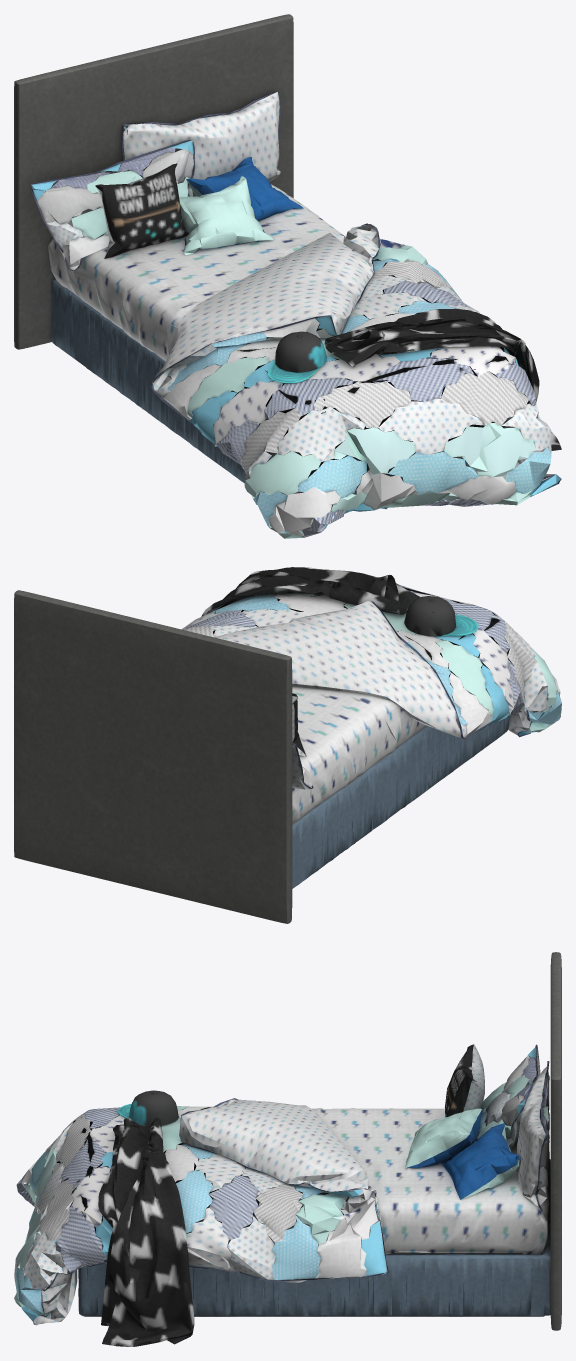
The model's file is raw_model.obj.
The picture shows the model from 3 angles, top to bottom: view 1: azimuth 30°, elevation 25°; view 2: azimuth 150°, elevation 25°; view 3: azimuth 270°, elevation 25°; orthographic projection. The views are drawn at different scales.
Parts seen in each view (by area): view 1: solid_007, solid_022, solid_002, solid_018, solid_001, solid_025, solid_015, solid_026, solid_024, solid_014, solid_023, solid_008 (+9 smaller); view 2: solid_007, solid_022, solid_001, solid_002, solid_008, solid_015, solid_018, solid_023, solid_024, solid_011, solid_027, solid_026 (+4 smaller); view 3: solid_001, solid_002, solid_008, solid_022, solid_023, solid_024, solid_025, solid_007, solid_018, solid_026, solid_005, solid_015 (+13 smaller).
Boxes of the visible parts, bbox=[...] form: solid_007: bbox=[14, 14, 293, 349]; solid_022: bbox=[152, 224, 561, 524]; solid_002: bbox=[48, 184, 345, 361]; solid_018: bbox=[71, 171, 537, 538]; solid_001: bbox=[51, 278, 352, 511]; solid_025: bbox=[169, 275, 551, 495]; solid_015: bbox=[62, 235, 517, 535]; solid_026: bbox=[217, 260, 528, 474]; solid_024: bbox=[167, 259, 551, 527]; solid_014: bbox=[44, 92, 280, 260]; solid_023: bbox=[216, 280, 536, 537]; solid_008: bbox=[324, 308, 561, 450]; solid_007: bbox=[14, 590, 292, 923]; solid_022: bbox=[181, 587, 530, 738]; solid_001: bbox=[292, 716, 509, 888]; solid_002: bbox=[262, 594, 495, 824]; solid_008: bbox=[201, 567, 420, 616]; solid_015: bbox=[225, 594, 561, 787]; solid_018: bbox=[262, 593, 560, 733]; solid_023: bbox=[185, 584, 551, 715]; solid_024: bbox=[214, 594, 561, 725]; solid_011: bbox=[404, 596, 455, 636]; solid_027: bbox=[305, 567, 513, 713]; solid_026: bbox=[183, 592, 537, 711]; solid_001: bbox=[78, 1159, 550, 1316]; solid_002: bbox=[312, 1108, 550, 1254]; solid_008: bbox=[98, 1117, 194, 1346]; solid_022: bbox=[33, 1099, 387, 1325]; solid_023: bbox=[16, 1107, 259, 1289]; solid_024: bbox=[15, 1103, 322, 1313]; solid_025: bbox=[23, 1117, 284, 1289]; solid_007: bbox=[550, 952, 561, 1330]; solid_018: bbox=[14, 1074, 549, 1317]; solid_026: bbox=[36, 1114, 303, 1242]; solid_005: bbox=[407, 1109, 520, 1199]; solid_015: bbox=[14, 1099, 547, 1284].
Size of the model in its own units: 1.25 by 0.9575 by 1.88.
Materials: 1 (1 with a texture image).
